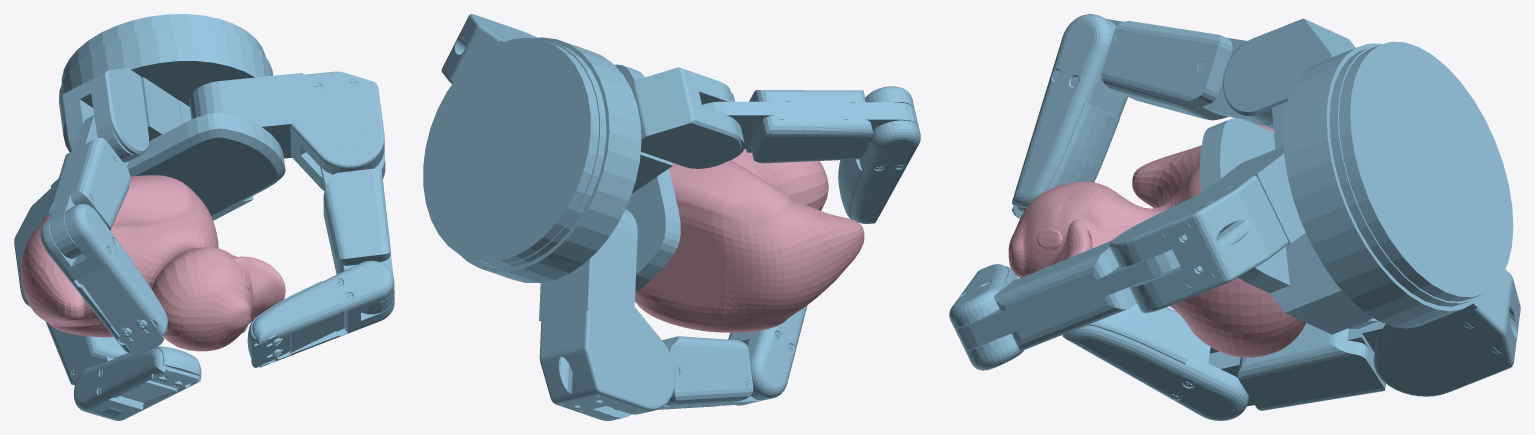
3 views of the same model, side by side, from view 1: azimuth 30°, elevation 25°; view 2: azimuth 150°, elevation 25°; view 3: azimuth 270°, elevation 25° (orthographic). The views are drawn at different scales.
Visible parts, largest first — view 1: world; view 2: world; view 3: world.
Part boxes in pixels (bbox=[...]): world: bbox=[14, 14, 394, 420]; world: bbox=[423, 14, 920, 420]; world: bbox=[949, 14, 1520, 420].
Bounding box in the file's own units: 0.1806 × 0.1524 × 0.1799.
